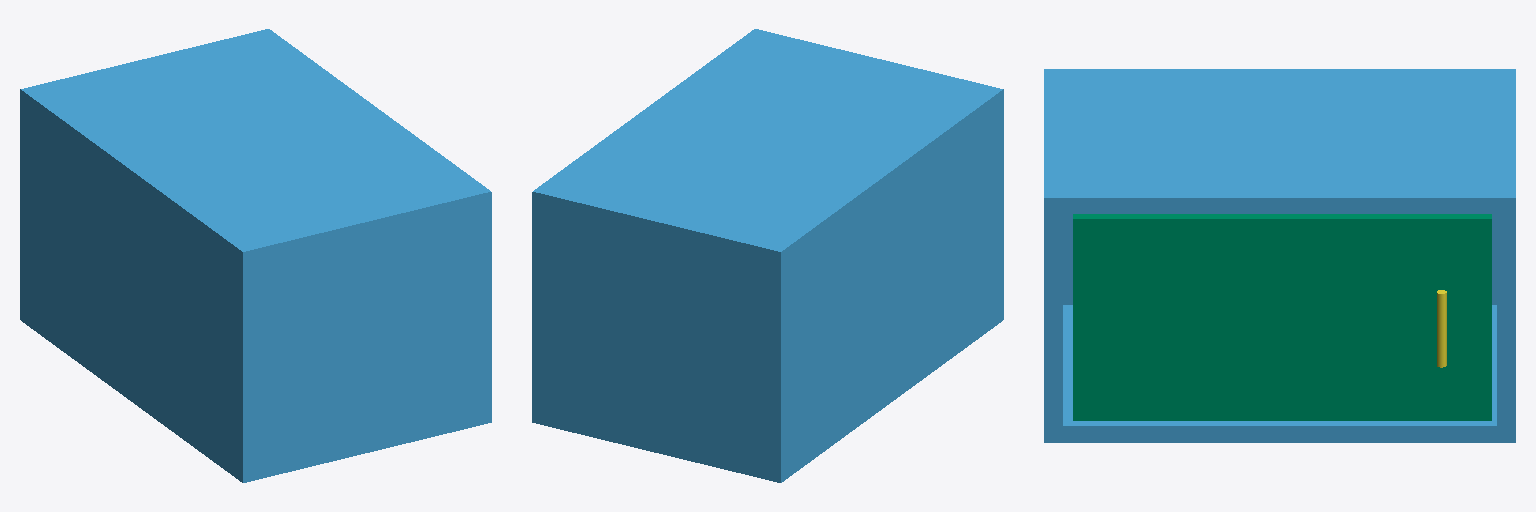
robot.urdf — my_cabinet:
<?xml version="1.0" ?>
<robot name="my_cabinet">
	<link name="world"/>
	<joint name="virtual_joint" type="fixed">
		<parent link="world"/>
		<child link="base_cabinet_link"/>
		<origin xyz="0.0 0.0 0.0" rpy="0.0 0.0 0.0"/>
	</joint>
	<link name="base_cabinet_link">
		<visual>
			<origin xyz="0.0 -0.0025 -0.1243612386892089" rpy="0.0 0.0 0.0"/>
			<geometry>
				<box size="0.3 0.4653083002520722 0.018"/>
			</geometry>
		</visual>
		<collision name="base_cabinet_link_collision_0">
			<origin xyz="0.0 -0.0025 -0.1243612386892089" rpy="0.0 0.0 0.0"/>
			<geometry>
				<box size="0.3 0.4653083002520722 0.018"/>
			</geometry>
		</collision>
		<visual>
			<origin xyz="0.0 0.22115415012603612 0.0" rpy="0.0 0.0 0.0"/>
			<geometry>
				<box size="0.3 0.018 0.2667224773784178"/>
			</geometry>
		</visual>
		<collision name="base_cabinet_link_collision_1">
			<origin xyz="0.0 0.22115415012603612 0.0" rpy="0.0 0.0 0.0"/>
			<geometry>
				<box size="0.3 0.018 0.2667224773784178"/>
			</geometry>
		</collision>
		<visual>
			<origin xyz="0.0 -0.22615415012603612 0.0" rpy="0.0 0.0 0.0"/>
			<geometry>
				<box size="0.3 0.018 0.2667224773784178"/>
			</geometry>
		</visual>
		<collision name="base_cabinet_link_collision_2">
			<origin xyz="0.0 -0.22615415012603612 0.0" rpy="0.0 0.0 0.0"/>
			<geometry>
				<box size="0.3 0.018 0.2667224773784178"/>
			</geometry>
		</collision>
		<visual>
			<origin xyz="0.0 -0.0025 0.1243612386892089" rpy="0.0 0.0 0.0"/>
			<geometry>
				<box size="0.3 0.4653083002520722 0.018"/>
			</geometry>
		</visual>
		<collision name="base_cabinet_link_collision_3">
			<origin xyz="0.0 -0.0025 0.1243612386892089" rpy="0.0 0.0 0.0"/>
			<geometry>
				<box size="0.3 0.4653083002520722 0.018"/>
			</geometry>
		</collision>
		<visual>
			<origin xyz="-0.141 -0.0025 0.0" rpy="0.0 0.0 0.0"/>
			<geometry>
				<box size="0.018 0.4653083002520722 0.2667224773784178"/>
			</geometry>
		</visual>
		<collision name="base_cabinet_link_collision_4">
			<origin xyz="-0.141 -0.0025 0.0" rpy="0.0 0.0 0.0"/>
			<geometry>
				<box size="0.018 0.4653083002520722 0.2667224773784178"/>
			</geometry>
		</collision>
		<inertial>
			<mass value="0.200000"/>
			<inertia ixx="0.004794" ixy="0.0" ixz="0.0" iyy="0.002686" iyz="0.0" izz="0.005109"/>
		</inertial>
	</link>
	<link name="door_link">
		<visual>
			<origin xyz="0.0 -0.2071541501260361 0.0"/>
			<geometry>
				<box size="0.018 0.4143083002520722 0.2207224773784178"/>
			</geometry>
		</visual>
		<collision name="door_link_collision">
			<origin xyz="0.0 -0.2071541501260361 0.0"/>
			<geometry>
				<box size="0.018 0.4143083002520722 0.2207224773784178"/>
			</geometry>
		</collision>
		<inertial>
			<mass value="0.200000"/>
			<inertia ixx="0.003673" ixy="0.0" ixz="0.0" iyy="0.000817" iyz="0.0" izz="0.002866"/>
		</inertial>
	</link>
	<joint name="door_joint" type="revolute">
		<origin xyz="0.141 -0.2071541501260361 0.0" rpy="0.000000 -0.000000 3.141593"/>
		<axis xyz="0 0 1"/>
		<parent link="base_cabinet_link"/>
		<child link="door_link"/>
		<limit effort="50" lower="-1.658062789394613" upper="0" velocity="10"/>
		<dynamics friction="3.5" damping="3.5"/>
	</joint>
	<link name="handle_link">
		<visual>
			<origin xyz="0.0 0.0 0.0" rpy="0.0 0.0 0.0"/>
			<geometry>
				<cylinder length="0.08" radius="0.005"/>
			</geometry>
		</visual>
		<collision name="handle_link_collision_0">
			<origin xyz="0.0 0.0 0.0" rpy="0.0 0.0 0.0"/>
			<geometry>
				<cylinder length="0.08" radius="0.005"/>
			</geometry>
		</collision>
		<visual>
			<origin xyz="-0.01 0.0 0.02" rpy="0.0 1.5707963267948966 0.0"/>
			<geometry>
				<cylinder length="0.02" radius="0.003"/>
			</geometry>
		</visual>
		<collision name="handle_link_collision_1">
			<origin xyz="-0.01 0.0 0.02" rpy="0.0 1.5707963267948966 0.0"/>
			<geometry>
				<cylinder length="0.01" radius="0.003"/>
			</geometry>
		</collision>
		<visual>
			<origin xyz="-0.01 0.0 -0.02" rpy="0.0 1.5707963267948966 0.0"/>
			<geometry>
				<cylinder length="0.02" radius="0.003"/>
			</geometry>
		</visual>
		<collision name="handle_link_collision_2">
			<origin xyz="-0.01 0.0 -0.02" rpy="0.0 1.5707963267948966 0.0"/>
			<geometry>
				<cylinder length="0.02" radius="0.003"/>
			</geometry>
		</collision>
		<inertial>
			<mass value="0.050000"/>
			<inertia ixx="0.000027" ixy="0.0" ixz="0.0" iyy="0.000029" iyz="0.0" izz="0.000003"/>
		</inertial>
	</link>
	<joint name="handle_joint" type="fixed">
		<origin xyz="-0.028999999999999998 -0.3643083002520722 0.0" rpy="0.000000 -0.000000 3.141593"/>
		<parent link="door_link"/>
		<child link="handle_link"/>
	</joint>
	<gazebo reference="base_cabinet_link">
		<sensor name="main_sensor" type="contact">
			<selfCollide>true</selfCollide>
			<alwaysOn>true</alwaysOn>
			<updateRate>5.0</updateRate>
			<material>Gazebo/Red</material>
			<contact>
				<collision>base_cabinet_link_collision_0_collision</collision>
				<collision>base_cabinet_link_collision_1_collision</collision>
				<collision>base_cabinet_link_collision_2_collision</collision>
				<collision>base_cabinet_link_collision_3_collision</collision>
				<collision>base_cabinet_link_collision_4_collision</collision>
			</contact>
			<plugin name="gazebo_ros_bumper_controller" filename="libgazebo_ros_bumper.so">
				<bumperTopicName>/contact</bumperTopicName>
				<frameName>world</frameName>
			</plugin>
		</sensor>
	</gazebo>
	<gazebo reference="door_link">
		<sensor name="main_sensor" type="contact">
			<selfCollide>true</selfCollide>
			<alwaysOn>true</alwaysOn>
			<updateRate>5.0</updateRate>
			<material>Gazebo/Red</material>
			<contact>
				<collision>door_link_collision_collision</collision>
			</contact>
			<plugin name="gazebo_ros_bumper_controller" filename="libgazebo_ros_bumper.so">
				<bumperTopicName>/contact_door</bumperTopicName>
				<frameName>contact_door</frameName>
			</plugin>
		</sensor>
	</gazebo>
	<gazebo reference="door_link">
		<mu>3.0</mu>
		<mu2>3.0</mu2>
		<kp>10000000</kp>
		<kd>100</kd>
	</gazebo>
</robot>

--- What the picture shows (computed from the rendered views, not written in the file) ---
Views: 3 orthographic renders of the robot side by side, from view 1: azimuth 30°, elevation 25°; view 2: azimuth 150°, elevation 25°; view 3: azimuth 270°, elevation 25°.
Model my_cabinet with 4 links and 3 joints (1 revolute, 2 fixed), rooted at world, posed every joint at zero.
Links seen in each view (by area): view 1: base_cabinet_link; view 2: base_cabinet_link; view 3: base_cabinet_link, door_link, handle_link.
Link boxes in pixels (x1,y1,x2,y2): base_cabinet_link: (20, 29, 491, 482); base_cabinet_link: (532, 29, 1003, 482); base_cabinet_link: (1044, 69, 1515, 442); door_link: (1073, 214, 1491, 420); handle_link: (1437, 290, 1446, 367).
Size in the robot's own frame: 0.325 by 0.4653 by 0.2667 metres.
Geometry: primitives only (box / cylinder / sphere), no mesh files.
